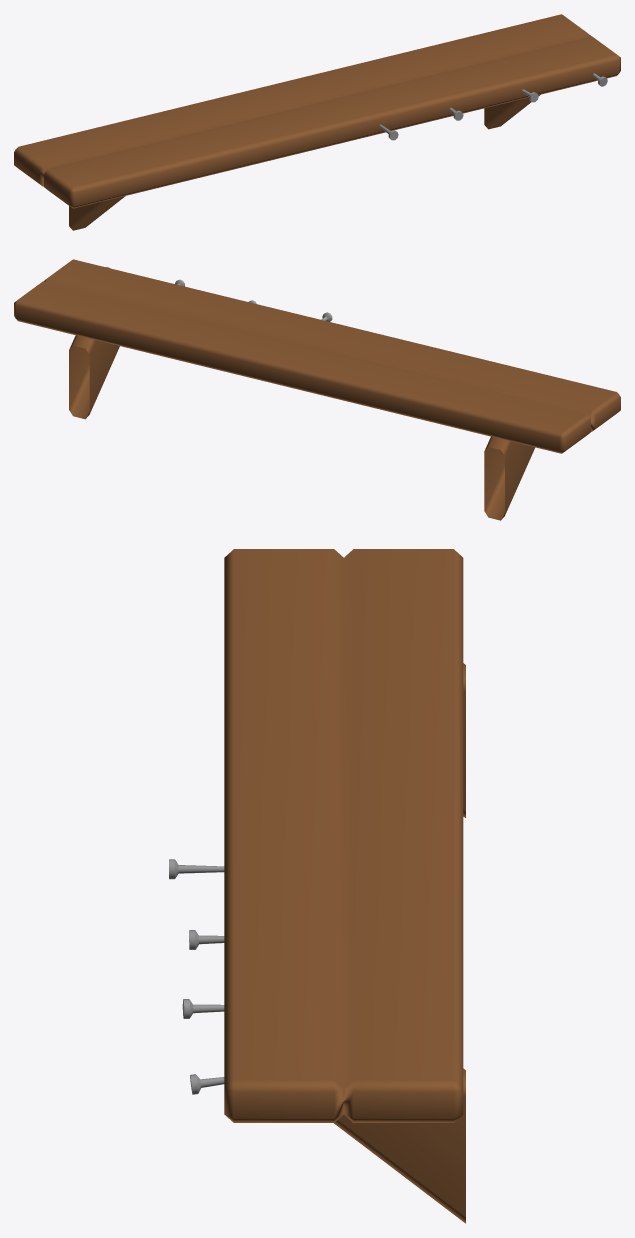
File: Shelf2m.fbx
The picture shows the model from 3 angles, top to bottom: view 1: azimuth 30°, elevation 25°; view 2: azimuth 150°, elevation 25°; view 3: azimuth 270°, elevation 25°; orthographic projection. The views are drawn at different scales.
Parts seen in each view (by area): view 1: Shelf2m; view 2: Shelf2m; view 3: Shelf2m.
Part boxes in pixels (x1,y1,x2,y2): Shelf2m: [14, 14, 620, 230]; Shelf2m: [14, 259, 620, 520]; Shelf2m: [169, 549, 465, 1223].
Size of the model in its own units: 200 by 34.74 by 46.6.
